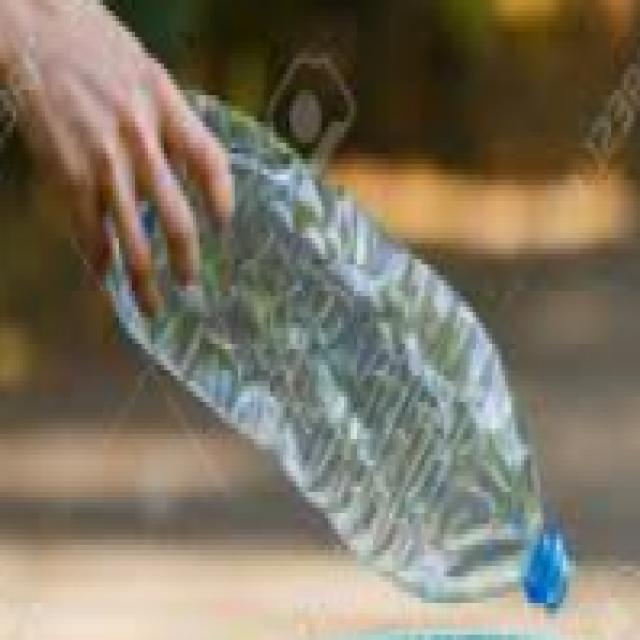Recycle: (79, 83, 570, 616)
